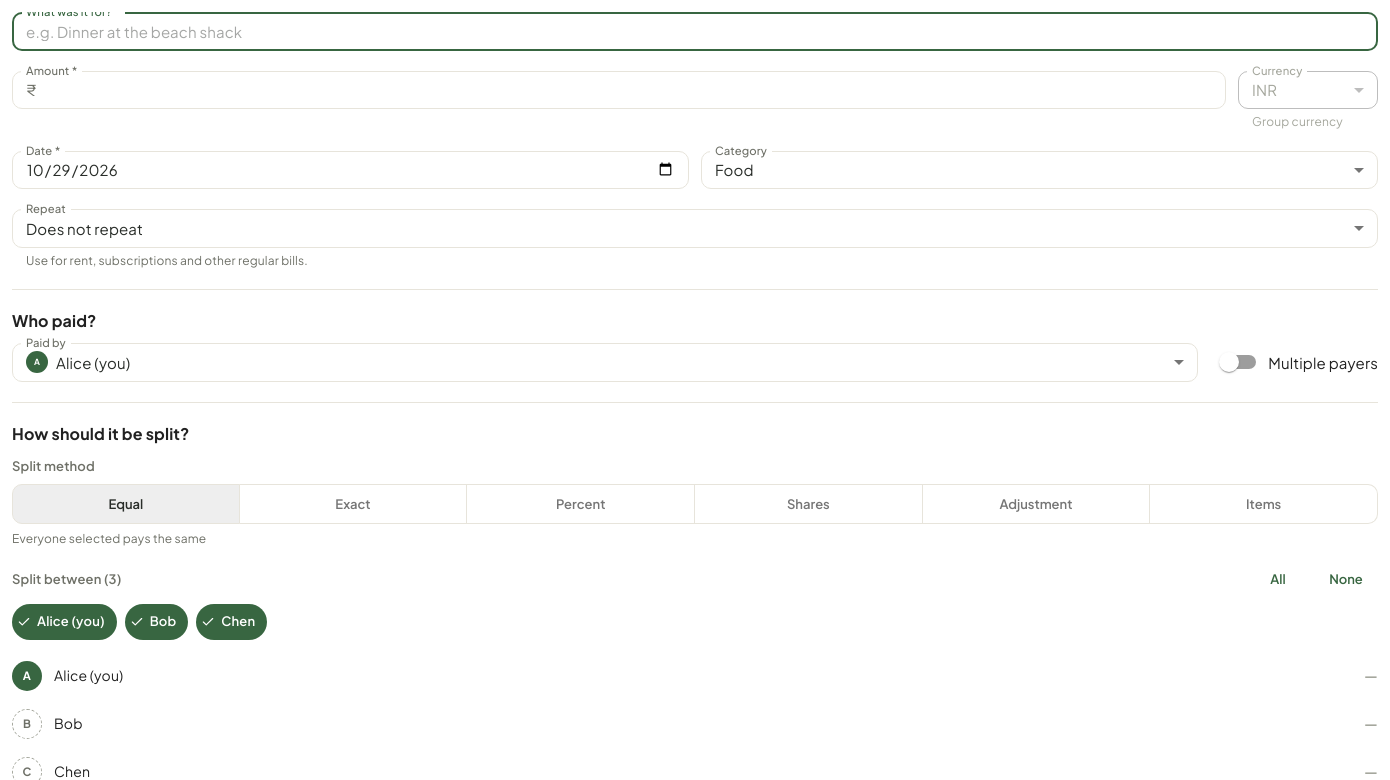
ExpenseForm › flags multiple payers whose contributions do not match the total
The image size is (1390, 780).
Type "4000" into the field labelled "Amount *". click: (635, 90)
box: x1=44 y1=71 x2=1226 y2=109
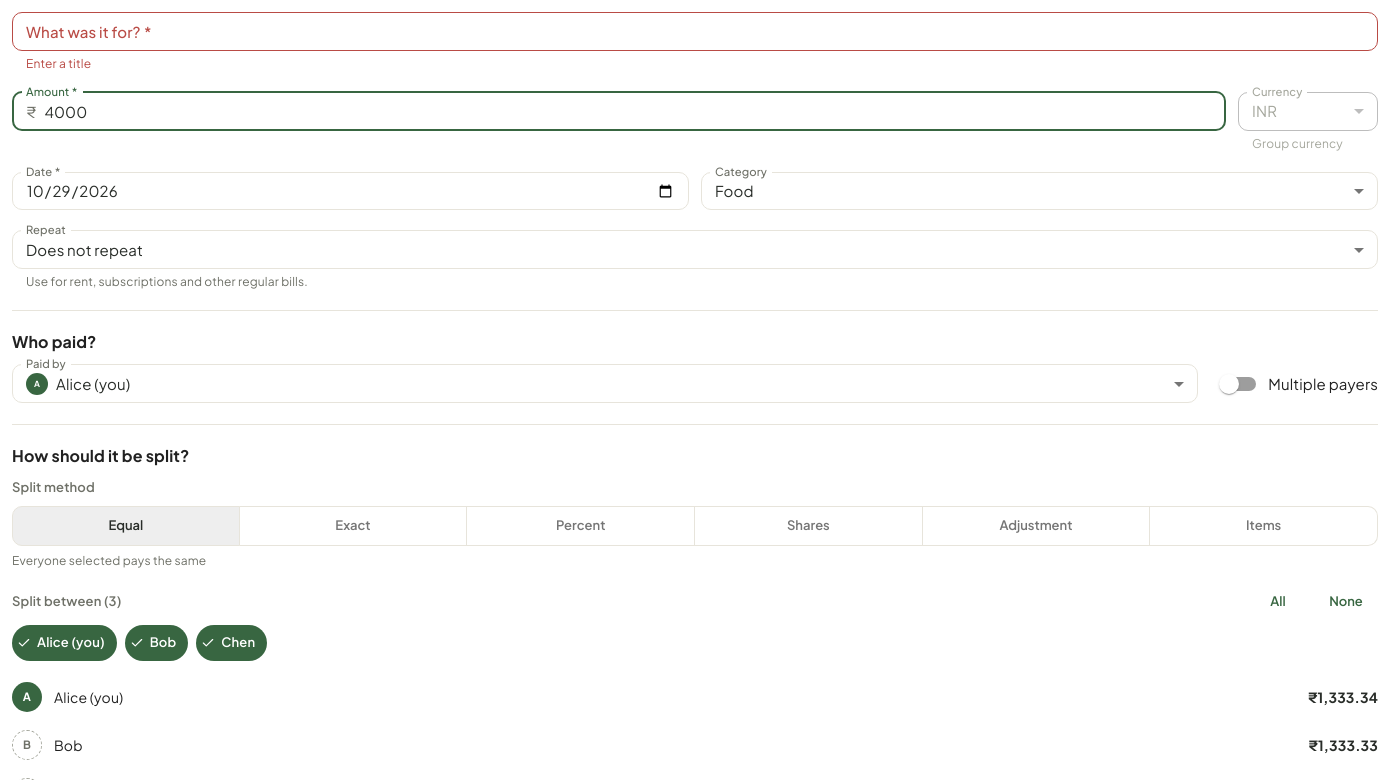
Click the switch labelled "Multiple payers". click: (1299, 384)
box: x1=1219 y1=374 x2=1378 y2=394
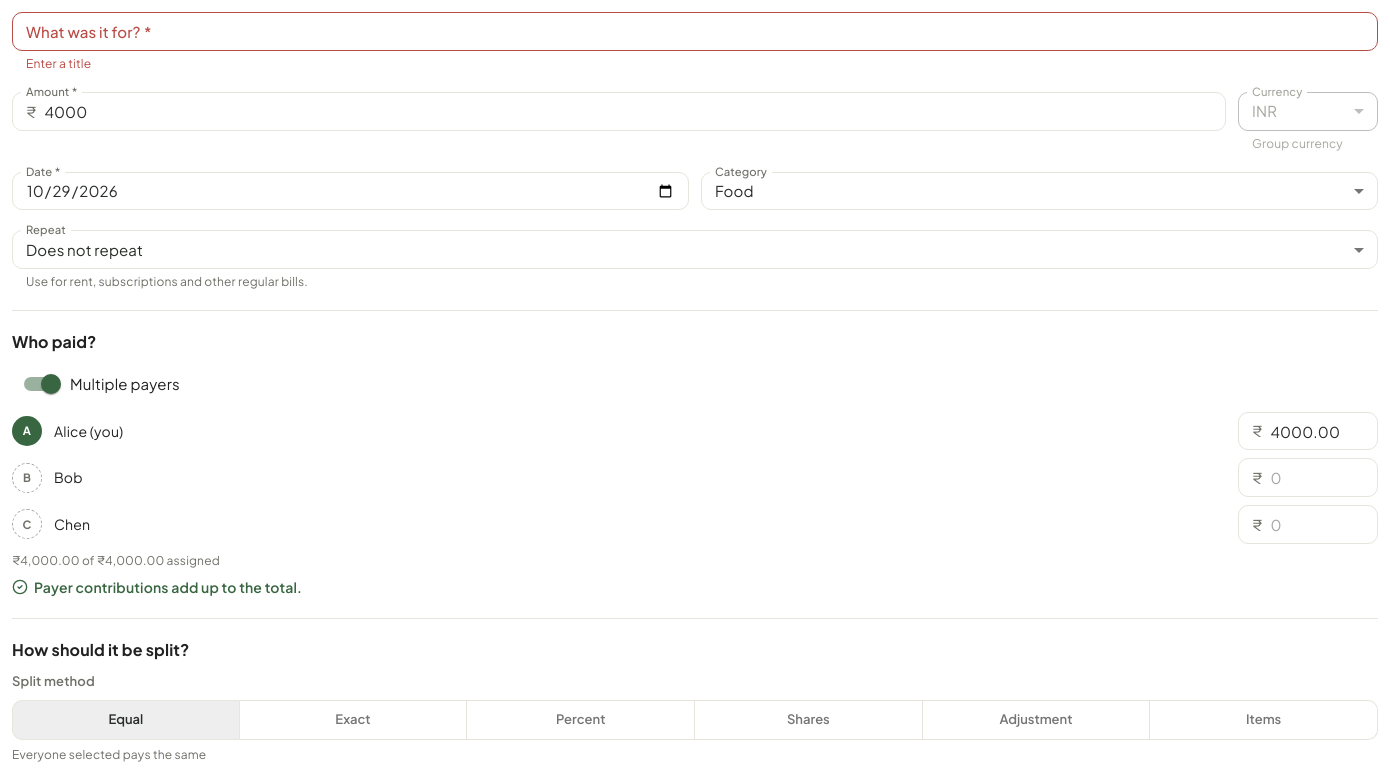
Result: the field named "Amount paid by Alice" holds "4000.00"
Replace the text in the field named "Amount paid by Alice" with "3000". click: (1324, 431)
box: x1=1270 y1=412 x2=1378 y2=450
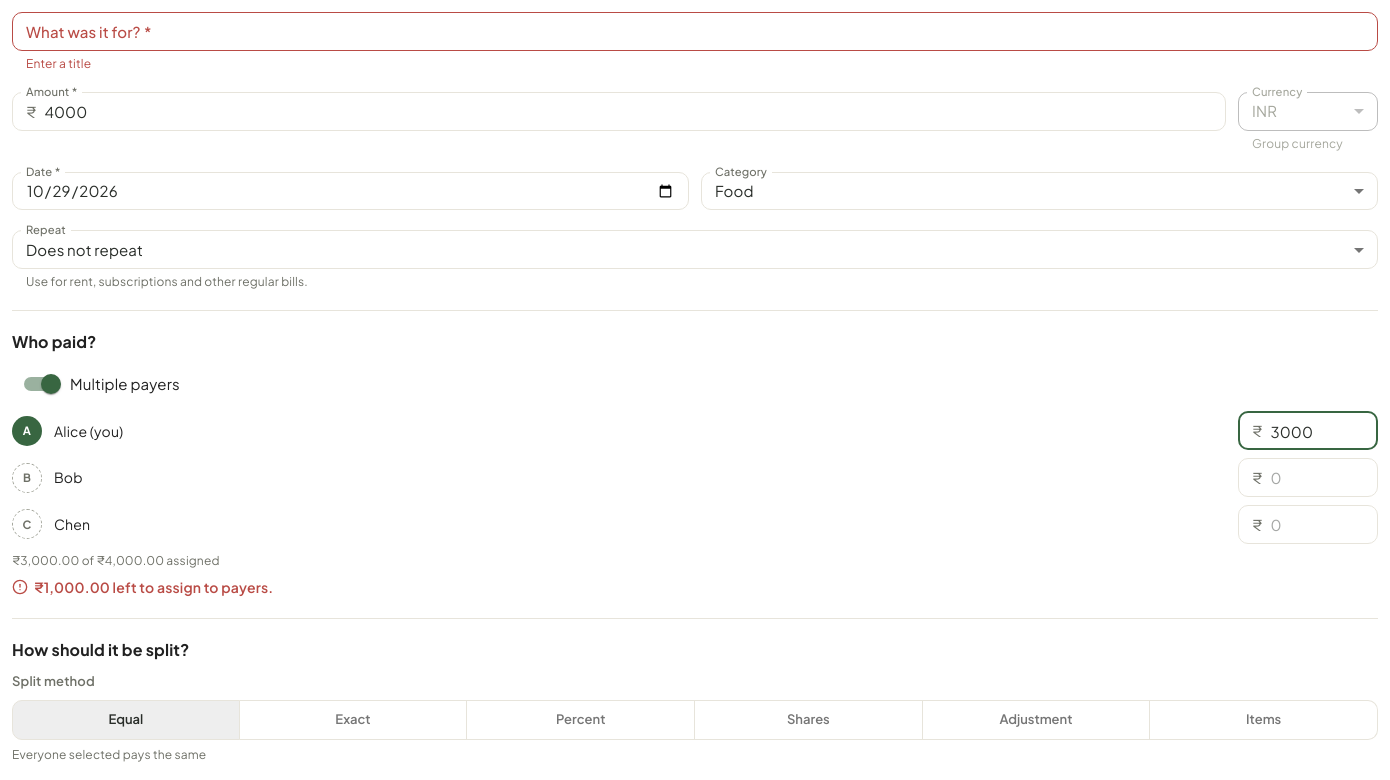
Result: the text "₹1,000.00 left to assign to payers." is shown at x1=34 y1=577 x2=273 y2=598
Type "1000" into the field named "Amount paid by Bob". click: (1324, 478)
box: x1=1270 y1=458 x2=1378 y2=497
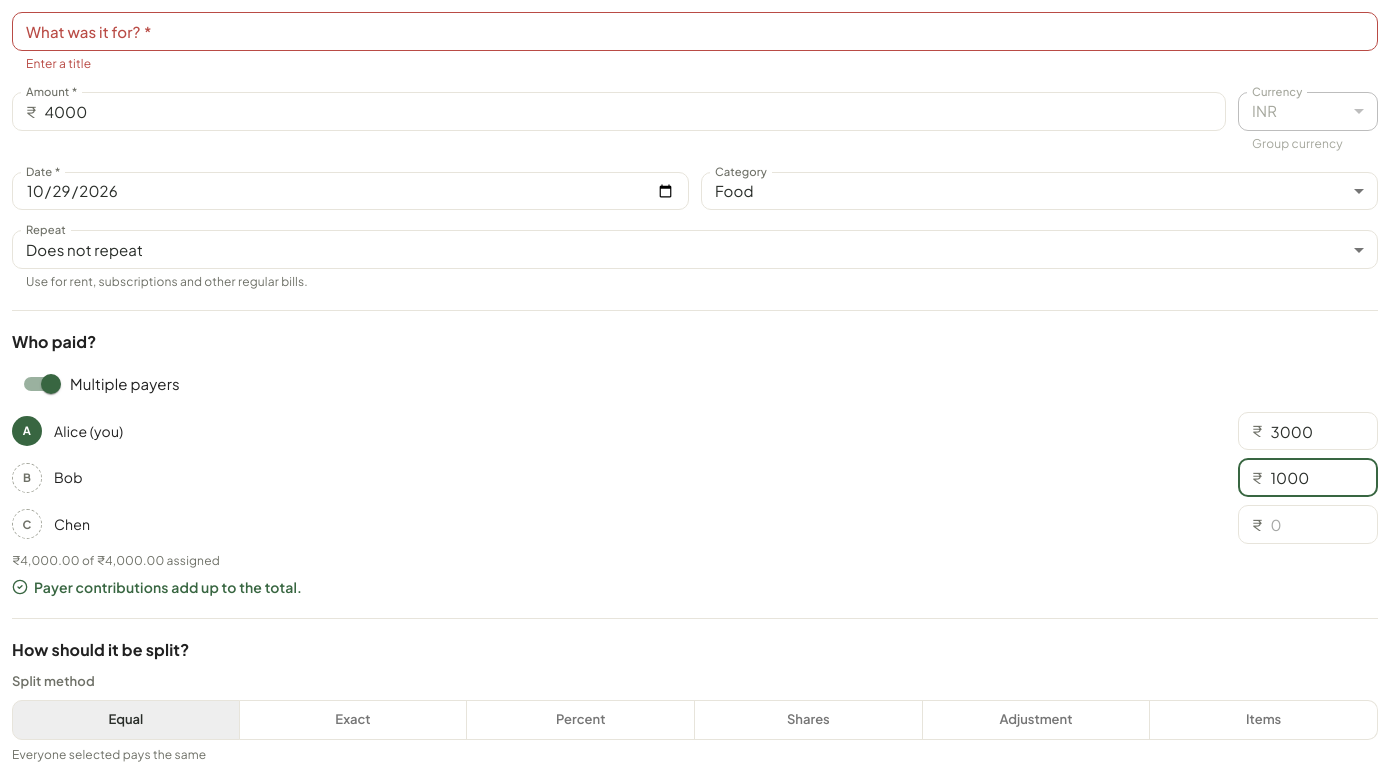
Result: the text "Payer contributions add up to the total." is shown at x1=34 y1=577 x2=302 y2=598
